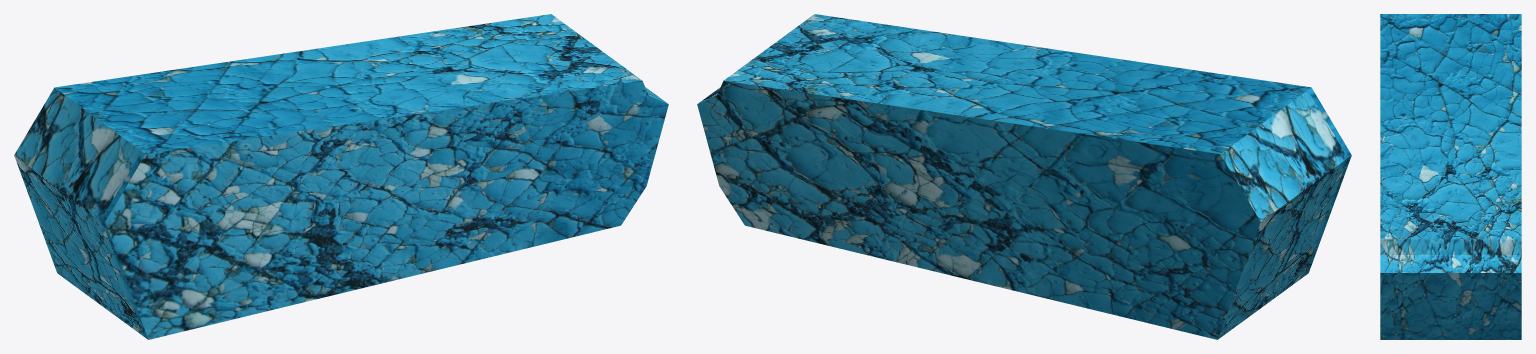
File: wall_easy.fbx
3 renders of one model, left to right at view 1: azimuth 30°, elevation 25°; view 2: azimuth 150°, elevation 25°; view 3: azimuth 270°, elevation 25°, orthographic. The views are drawn at different scales.
Parts seen in each view (by area): view 1: Circle; view 2: Circle; view 3: Circle.
Part boxes in pixels (<box>): Circle: <box>14,14,668,339</box>; Circle: <box>697,14,1351,339</box>; Circle: <box>1380,14,1521,339</box>.
Bounding box in the file's own units: 7.14 × 2.27 × 2.
